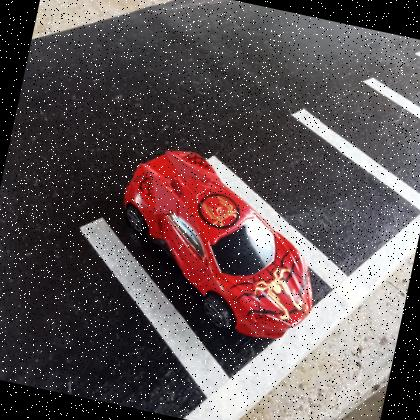Car: (123, 151, 315, 342)
